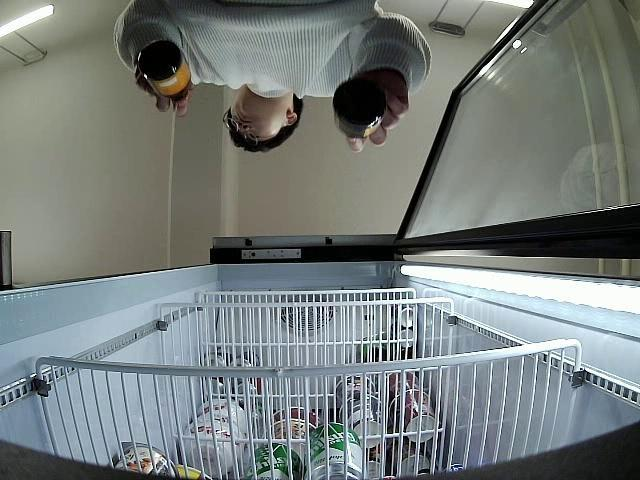17_vita500: (333, 79, 391, 136), (139, 40, 190, 100)
